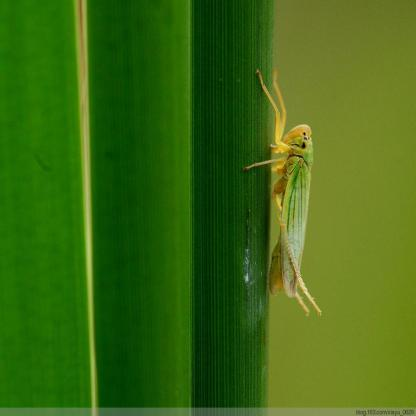Green-Leafhopper: (247, 63, 324, 336)
